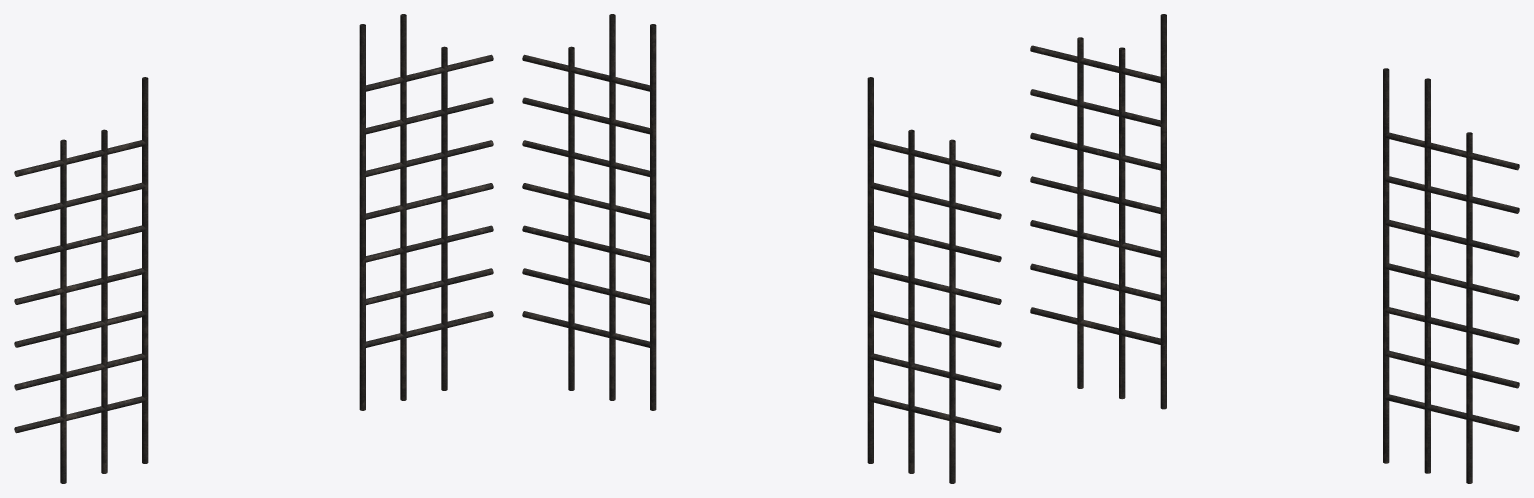
Rendered from bars_metal_3.obj.
3 views of the same model, side by side, from view 1: azimuth 30°, elevation 25°; view 2: azimuth 150°, elevation 25°; view 3: azimuth 330°, elevation 25° (orthographic). The views are drawn at different scales.
Visible parts, largest first — view 1: bars_metal_3; view 2: bars_metal_3; view 3: bars_metal_3.
Part boxes in pixels (x1,y1,x2,y2): bars_metal_3: (14, 14, 493, 483); bars_metal_3: (522, 14, 1001, 483); bars_metal_3: (1030, 14, 1519, 483).
Bounding box in the file's own units: 3.5 × 2.7 × 0.04.
